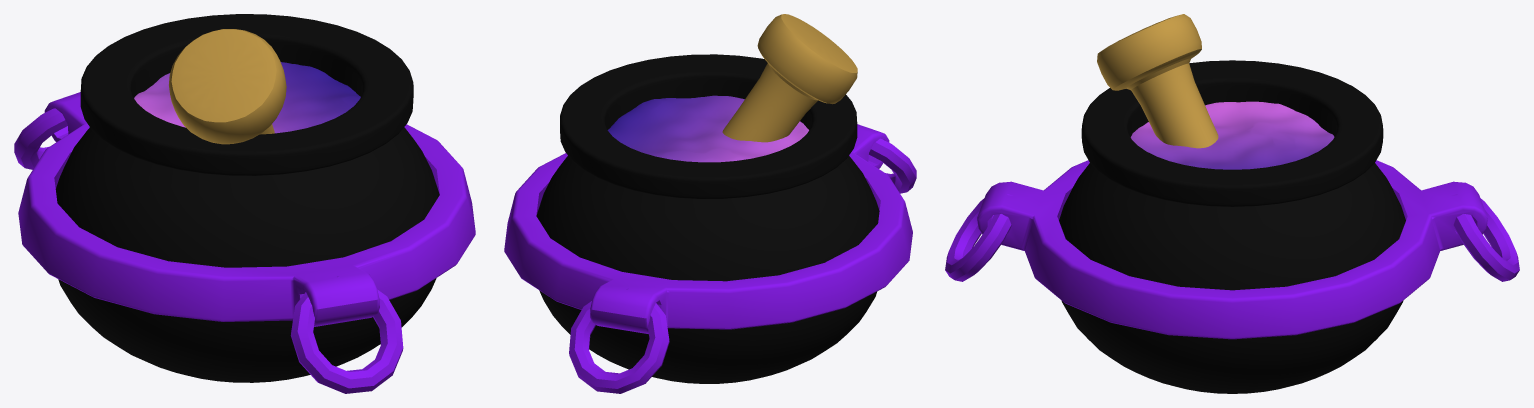
Rendered from Cauldron.glb.
The picture shows the model from 3 angles, left to right: view 1: azimuth 30°, elevation 25°; view 2: azimuth 150°, elevation 25°; view 3: azimuth 270°, elevation 25°; orthographic projection. The views are drawn at different scales.
Visible parts, largest first — view 1: Sphere, Sphere.006, Sphere.002; view 2: Sphere, Sphere.006, Sphere.002; view 3: Sphere, Sphere.006, Sphere.002.
Part boxes in pixels (x1,y1,x2,y2): Sphere: (14, 14, 475, 393); Sphere.006: (169, 29, 286, 144); Sphere.002: (134, 62, 360, 133); Sphere: (504, 54, 916, 393); Sphere.006: (722, 14, 857, 142); Sphere.002: (607, 95, 808, 162); Sphere: (945, 60, 1519, 393); Sphere.006: (1097, 14, 1218, 148); Sphere.002: (1130, 101, 1334, 169).
Bounding box in the file's own units: 1.27 × 1.1 × 1.76.
1 material, 1 textured.
